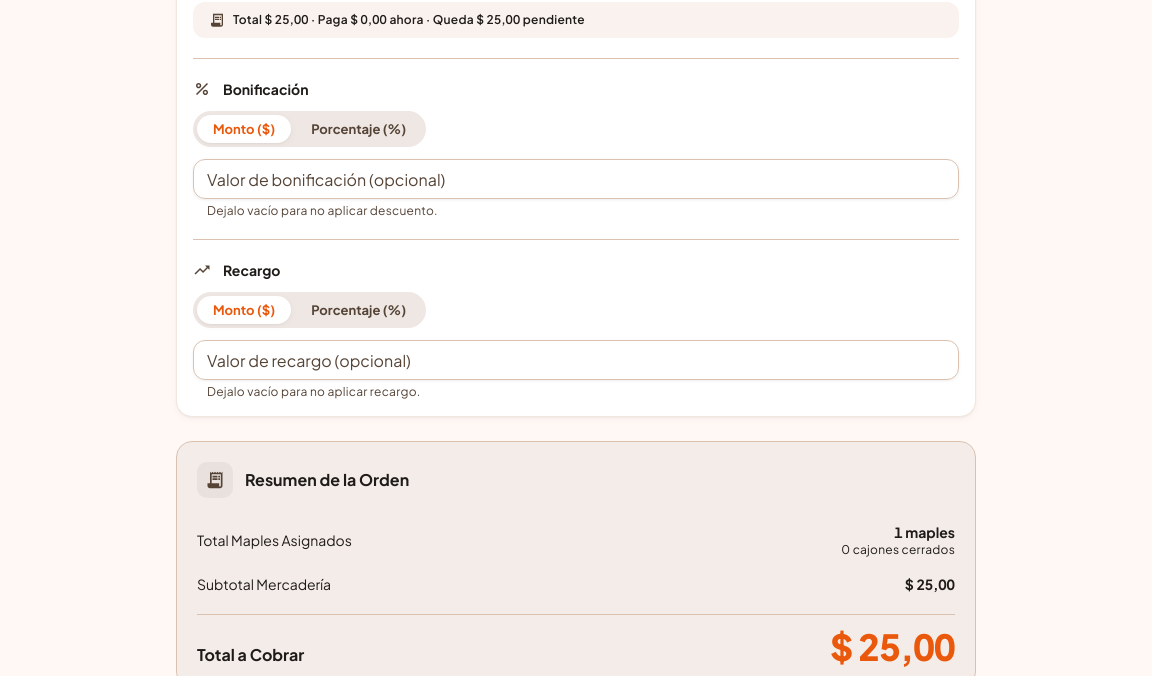
it: NewOrderPage — order-level surcharge › computes a fixed-amount surcharge live and submits it
Earlier steps of the test are not shown.
Later steps or results of the test are not shown.
(page scrolled)
Type "5" into the number field labelled "Valor de recargo (opcional)" at (576, 360), box [193, 340, 959, 380]
(page scrolled)
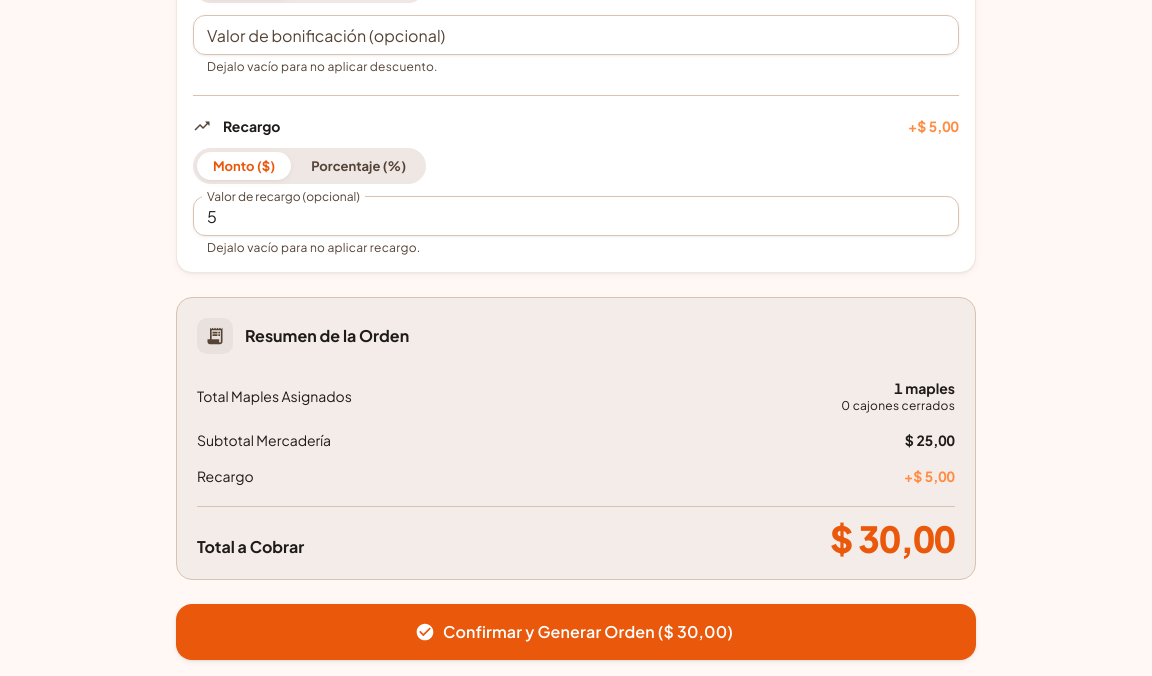
Check: the 1st text "+$ 5,00" is shown, box [908, 116, 959, 136]
Check: the heading "$ 30,00" is shown, box [830, 519, 955, 559]
